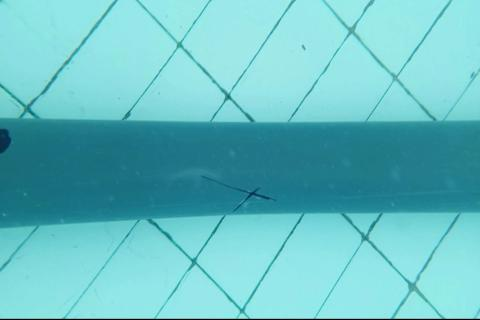kebocoran: (0, 126, 13, 156)
keretakan: (204, 174, 278, 211)
